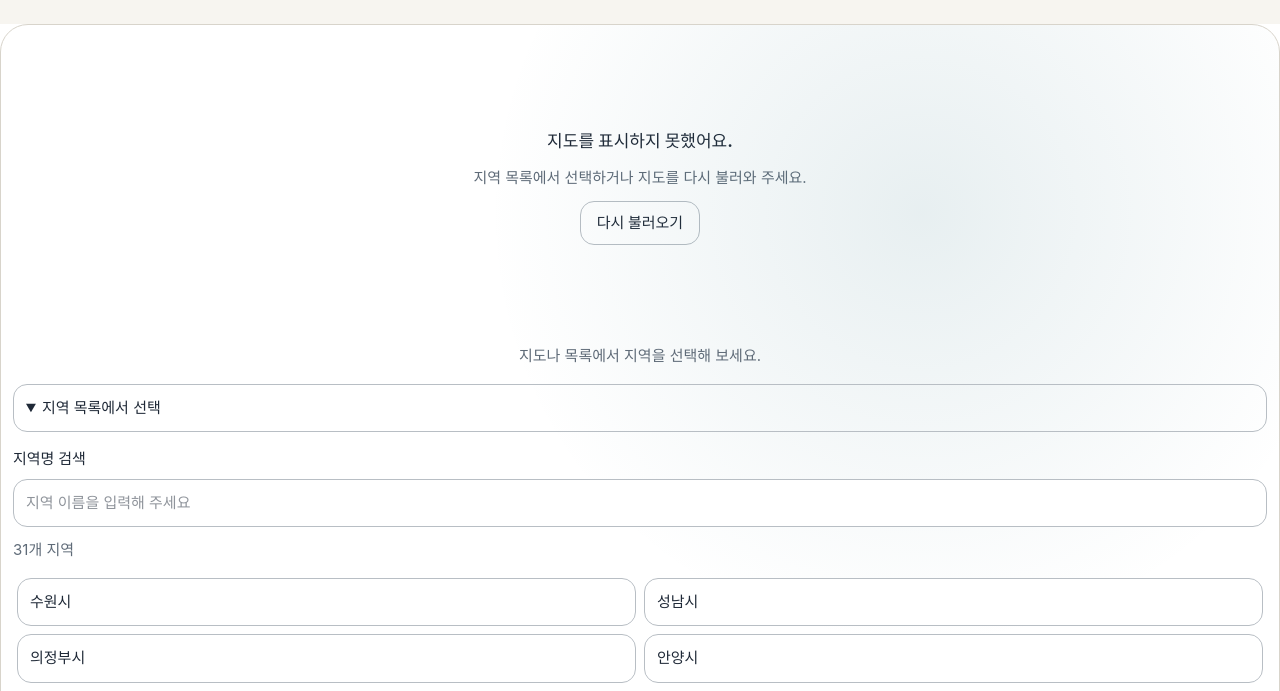
it: RegionPackMap › 불러오기 실패 시 목록 검색으로 선택할 수 있고 재시도로 지도를 복구한다
Expected: the message "지도를 표시하지 못했어요. 지역 목록에서 선택하거나 지도를 다시 불러와 주세요. 다시 불러오기" is shown, [473,131,807,245]
Type "성 남" into the search field labelled "지역명 검색" at coordinates (640, 503), box [13,478,1267,527]
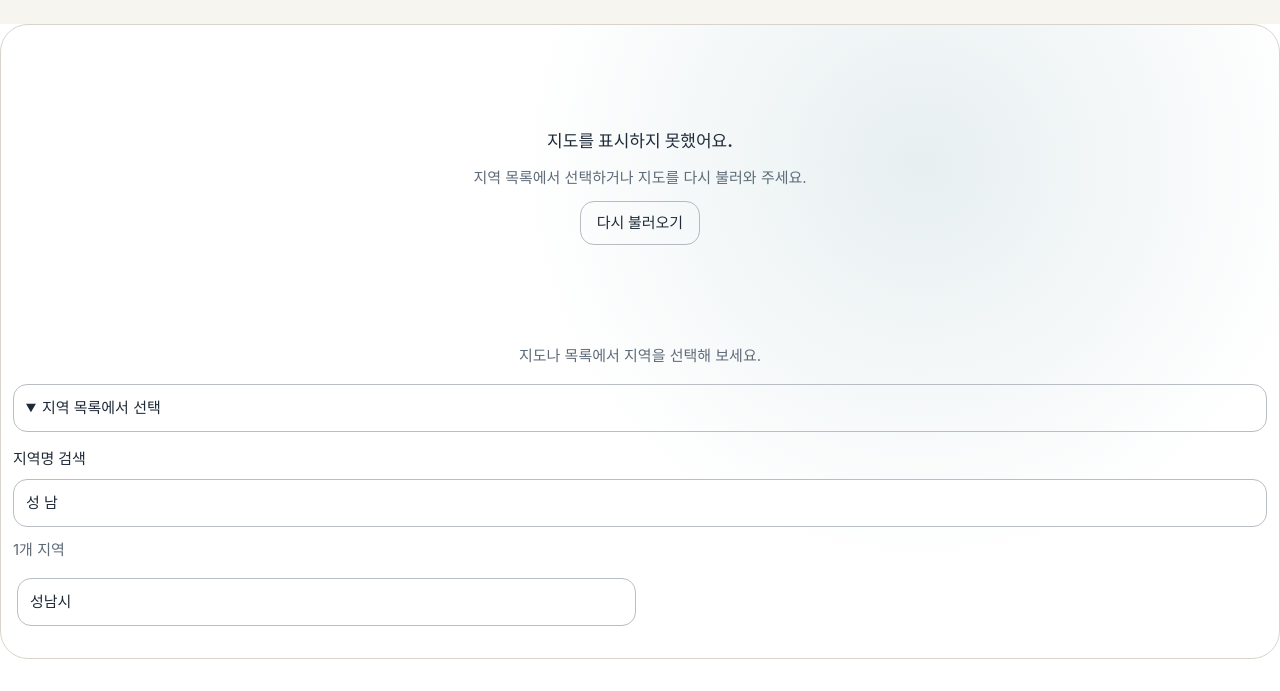
Click the button "성남시" at coordinates (51, 601), box [17,578,636,626]
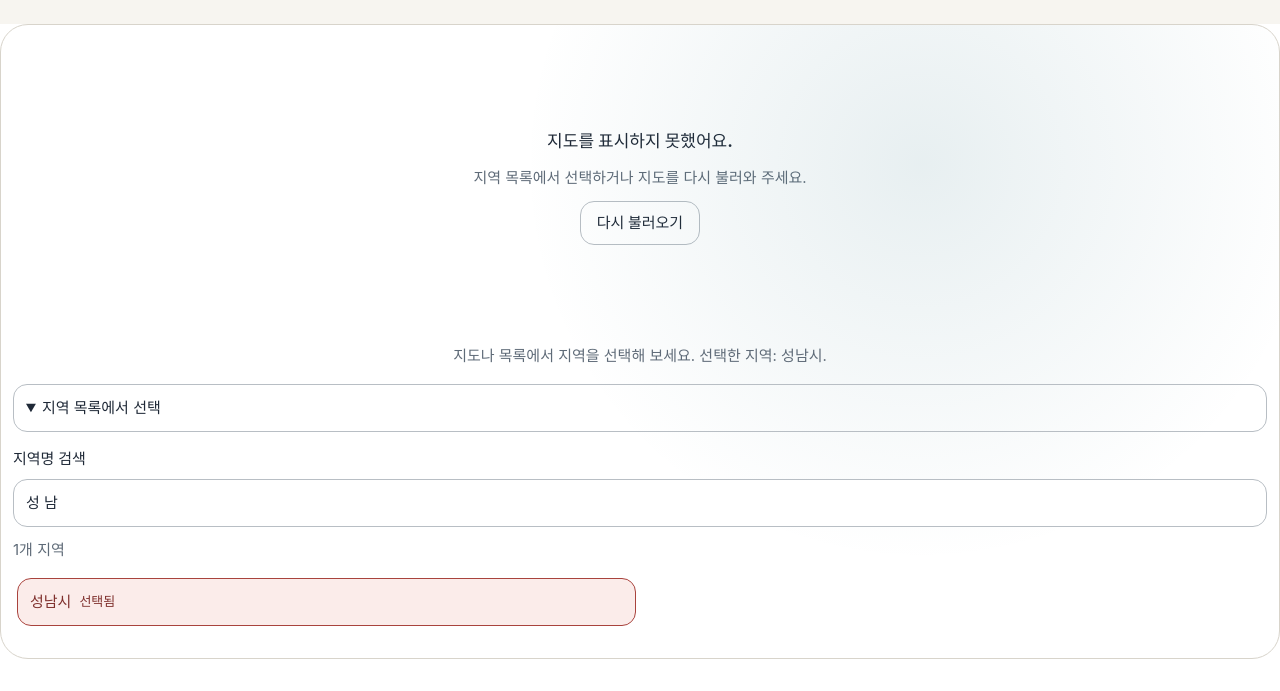
Click the button "다시 불러오기" at coordinates (640, 223), box [580,201,700,245]
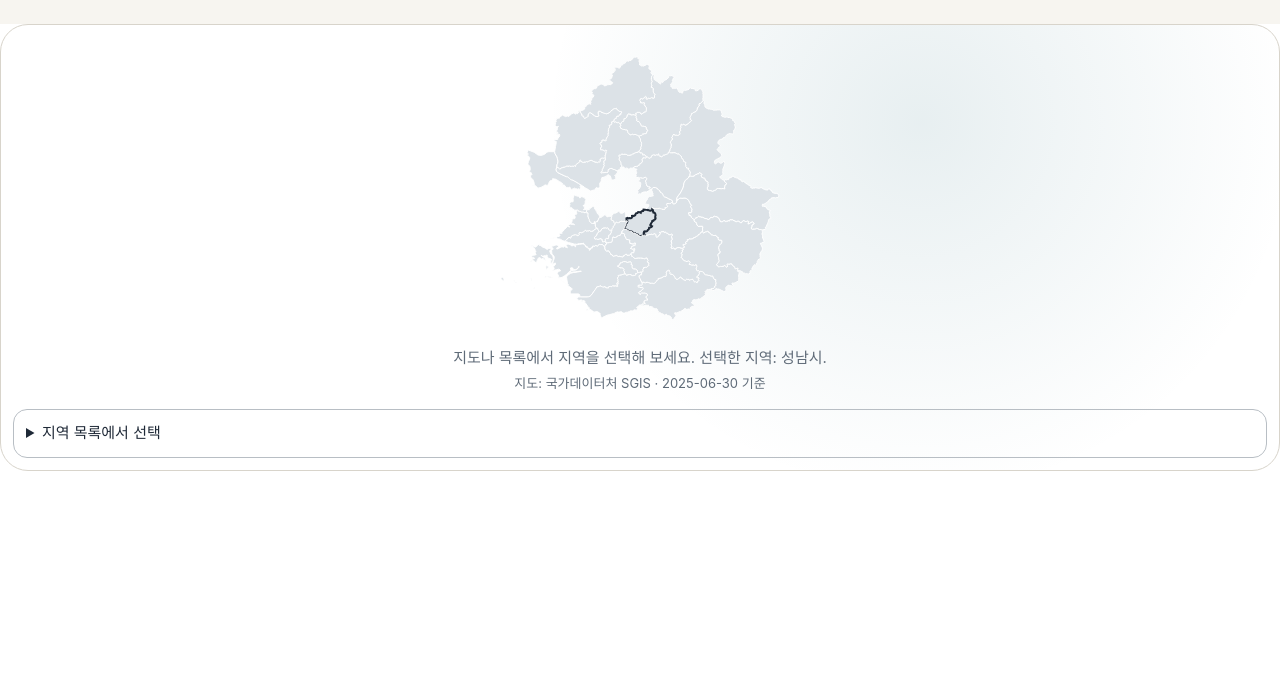
Now the icon named "경기 31개 시·군 지도" is shown, box [13,37,1267,339]
Now the message "지도를 표시하지 못했어요. 지역 목록에서 선택하거나 지도를 다시 불러와 주세요. 다시 불러오기" is gone
